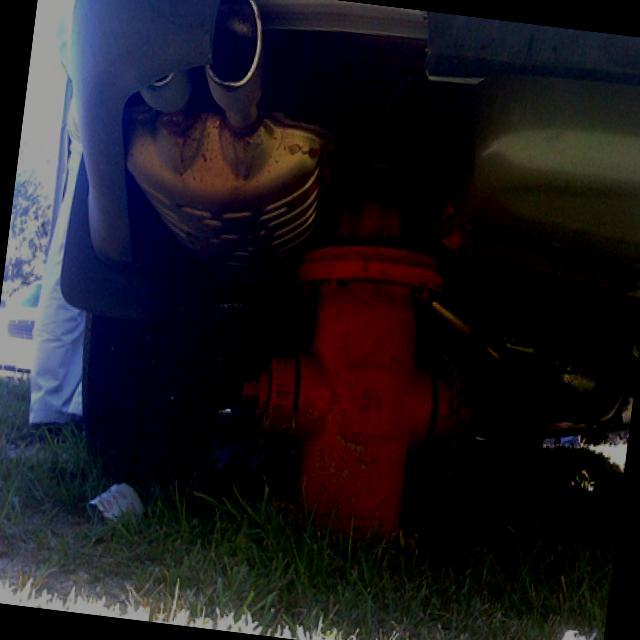Vehicle: (12, 0, 640, 557)
